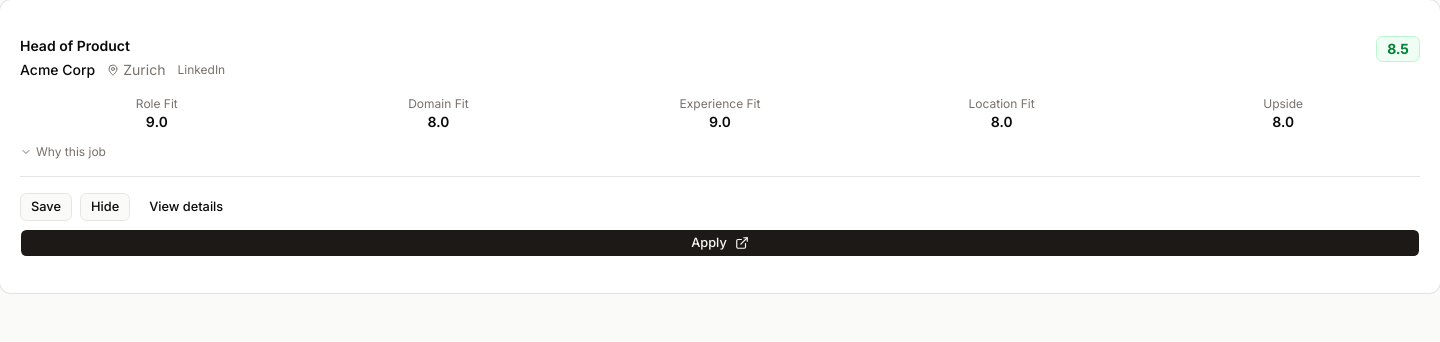
Test: JobCard › toggles reasoning on expand click
Expected: the text "strong fit" is not shown
Click the button "Why this job" at point(63, 152), box [20,144,106,160]
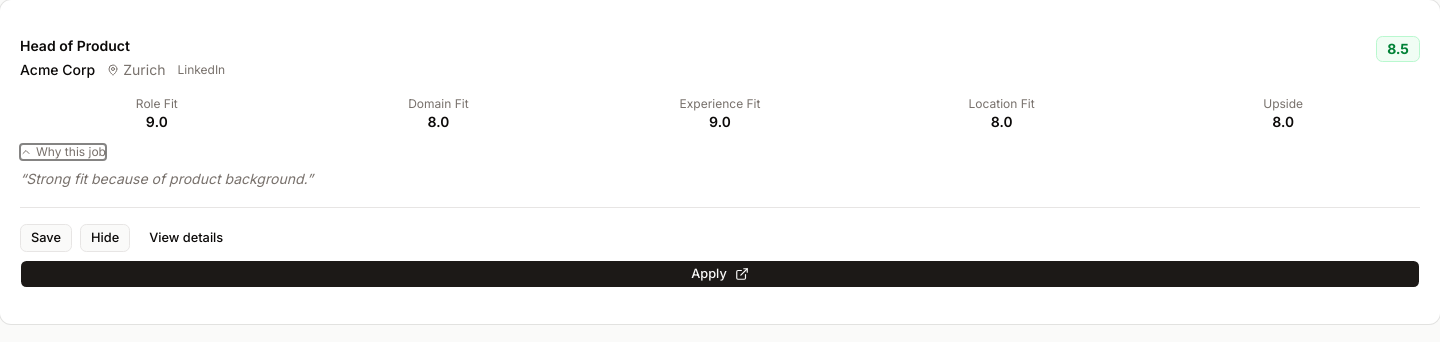
Expected: the text "“Strong fit because of product background.”" is shown, [20,170,313,187]
